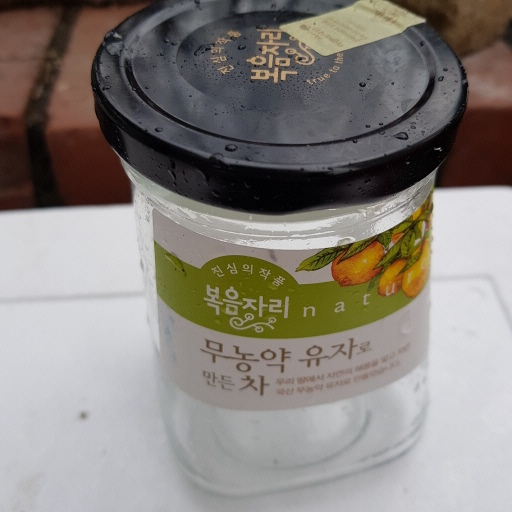Glass_5: (85, 1, 467, 495)
